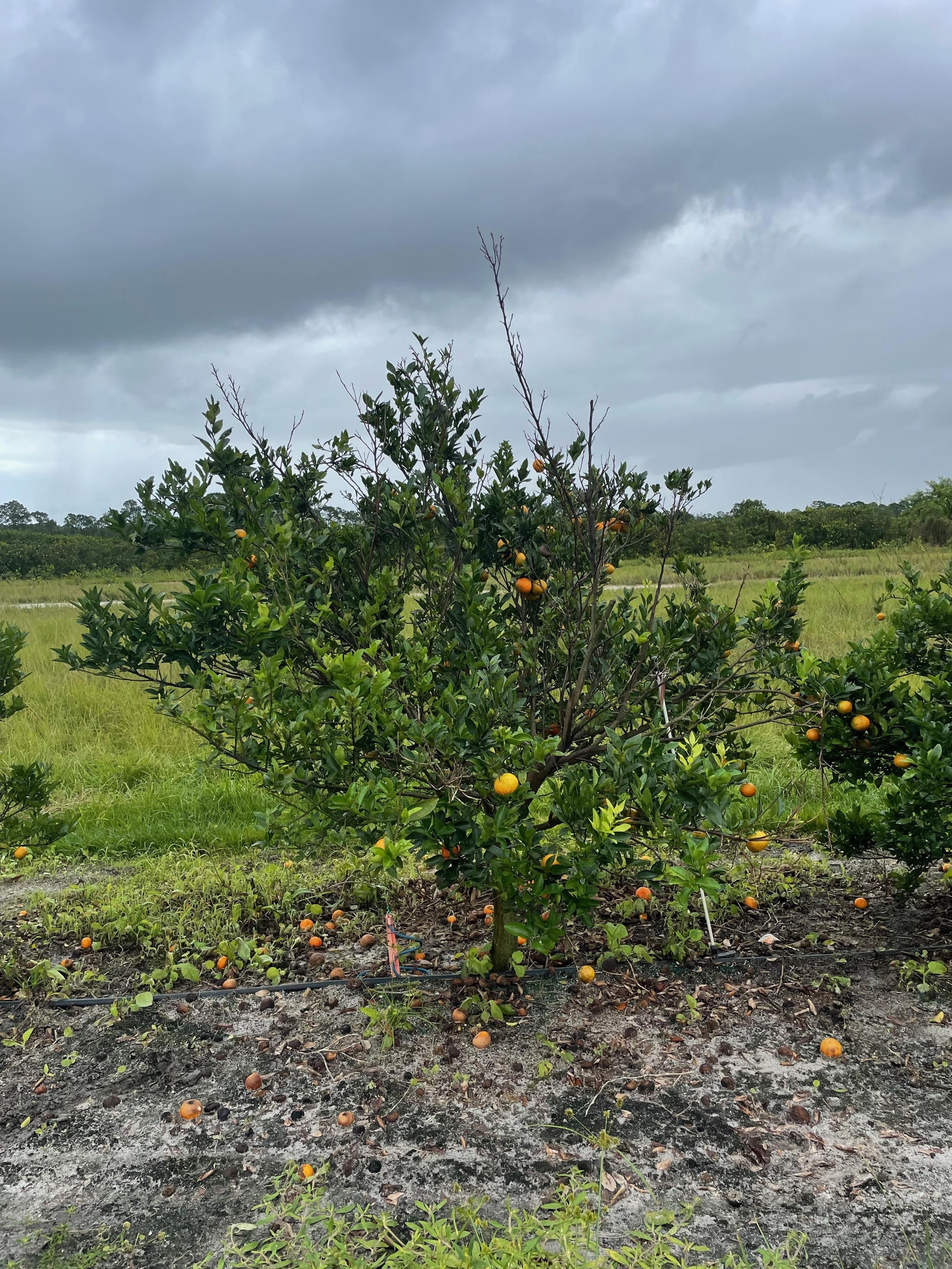fruit_on_ground: (492, 770, 521, 797), (744, 829, 770, 854), (439, 839, 463, 861), (539, 852, 564, 873), (849, 712, 872, 732), (543, 718, 565, 738), (891, 750, 913, 770), (529, 577, 549, 597), (835, 697, 855, 717), (514, 575, 533, 596), (240, 551, 260, 570), (605, 515, 624, 534), (738, 781, 758, 799), (420, 502, 438, 521), (499, 545, 517, 564), (782, 637, 802, 654), (779, 600, 799, 617), (804, 725, 822, 743), (11, 844, 30, 861), (238, 694, 257, 711), (511, 502, 529, 519), (856, 737, 874, 754), (494, 535, 513, 551), (791, 690, 808, 707), (373, 837, 390, 854), (730, 757, 748, 773), (616, 520, 634, 536), (513, 550, 529, 567), (622, 806, 640, 821), (582, 706, 600, 721), (592, 518, 608, 534), (617, 507, 633, 523), (600, 561, 616, 577), (531, 458, 547, 474), (231, 527, 248, 542), (805, 690, 822, 705), (475, 568, 491, 583), (541, 523, 556, 538), (718, 645, 733, 660), (385, 486, 399, 500), (875, 611, 887, 622)
fruit_on_tree: (818, 1035, 844, 1059), (178, 1097, 203, 1119), (242, 1071, 265, 1092), (575, 963, 597, 984), (471, 1029, 492, 1049), (336, 1108, 356, 1127), (634, 884, 654, 902), (450, 1005, 469, 1023), (742, 894, 760, 911), (298, 1162, 315, 1180), (358, 932, 377, 948), (853, 894, 869, 910), (329, 965, 347, 979), (299, 917, 315, 932), (215, 954, 230, 970), (331, 907, 348, 920), (221, 976, 238, 989), (385, 1107, 399, 1122), (59, 956, 74, 970), (481, 901, 496, 915), (409, 996, 424, 1010), (79, 935, 93, 950), (307, 935, 323, 948), (33, 1082, 49, 1094), (324, 1048, 338, 1061), (175, 1002, 189, 1015), (322, 921, 336, 933), (482, 913, 495, 925), (413, 949, 426, 961), (446, 913, 458, 925), (516, 933, 528, 944), (941, 862, 952, 873)
